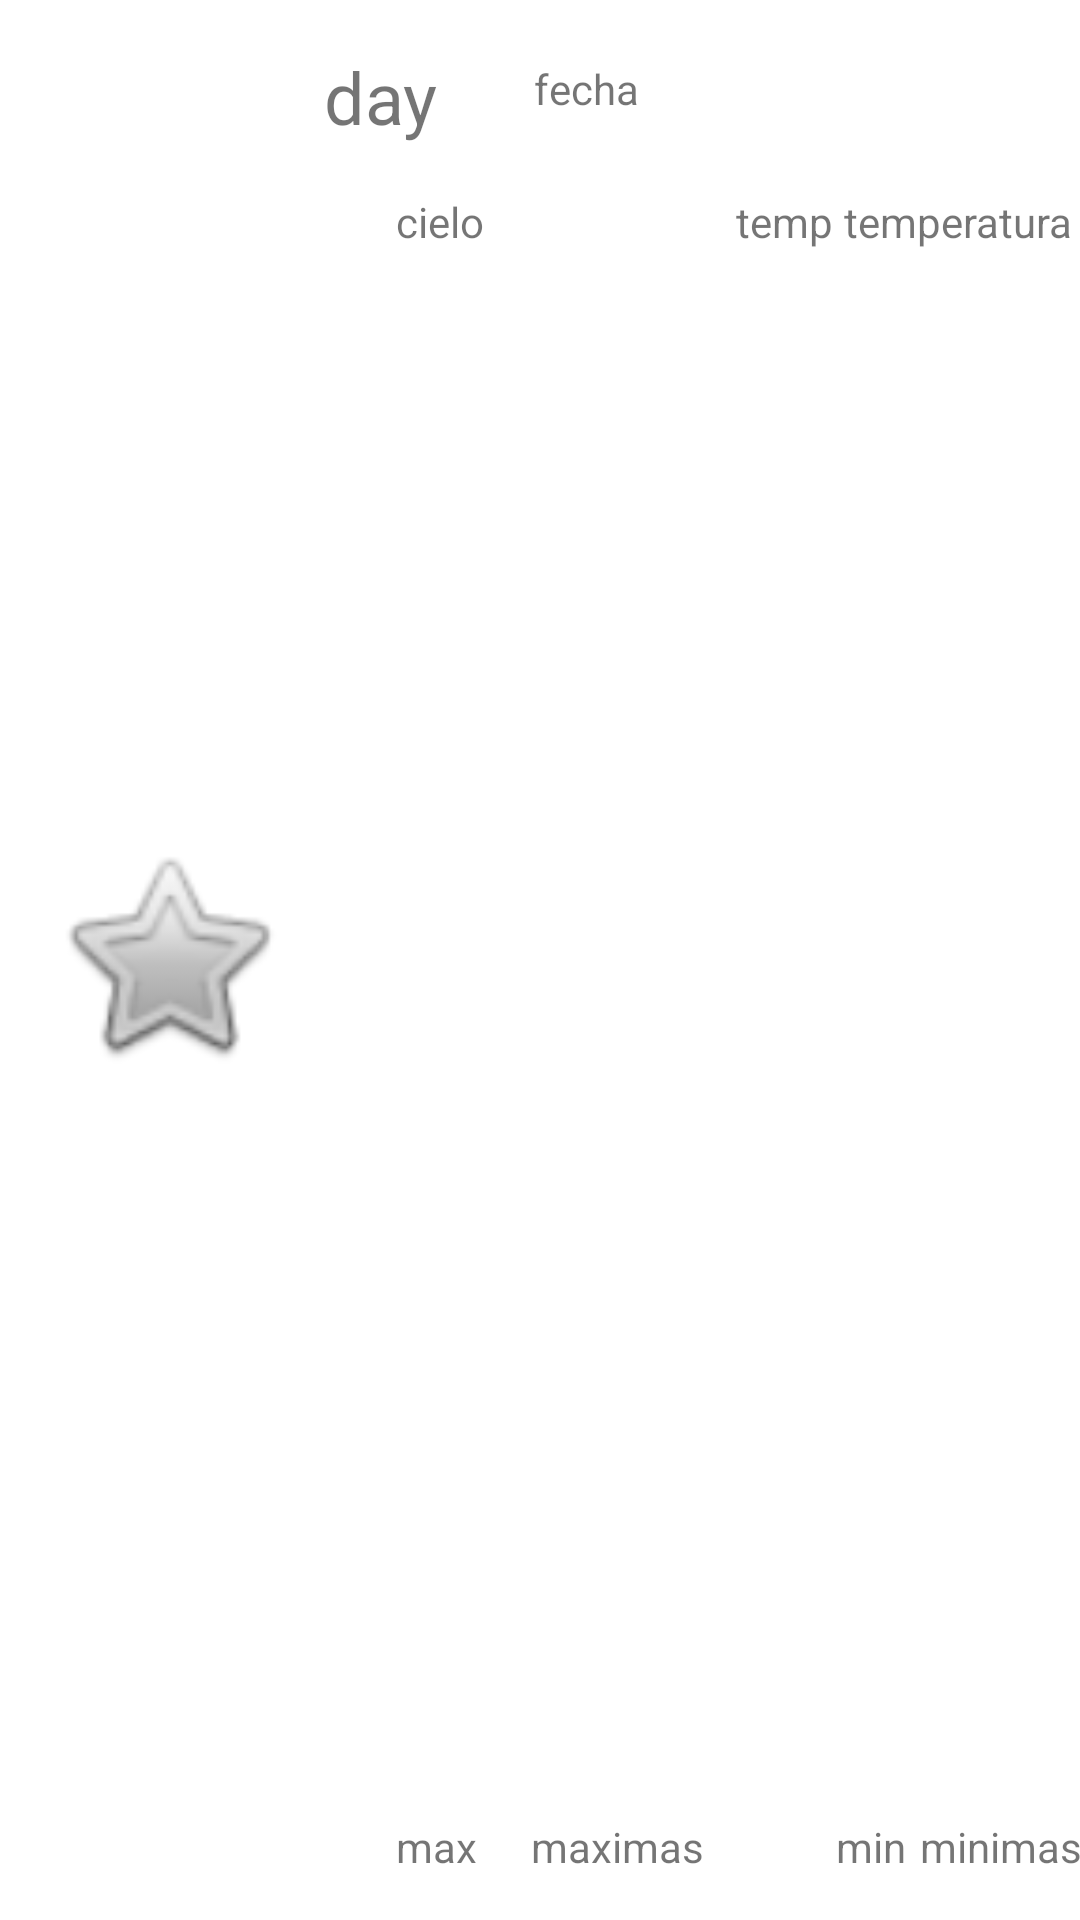

Icon click points for this 1080px×1920px phone screenshot, format point (x, y):
star: point (170, 957)
